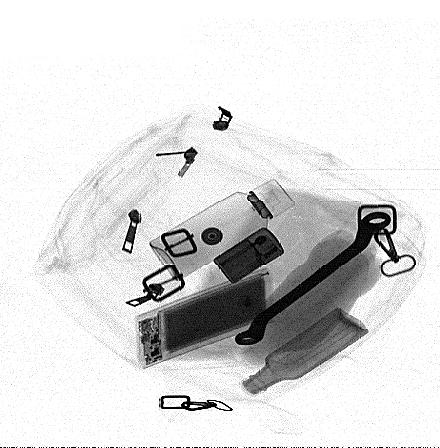Lighter: (212, 227, 285, 285)
Powerbank: (136, 266, 279, 369)
Sprayer: (150, 179, 293, 281)
